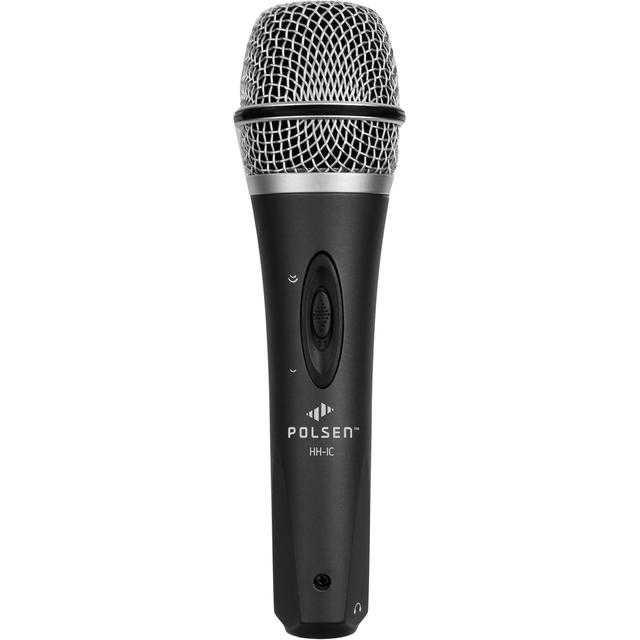microphone: (211, 11, 418, 622)
